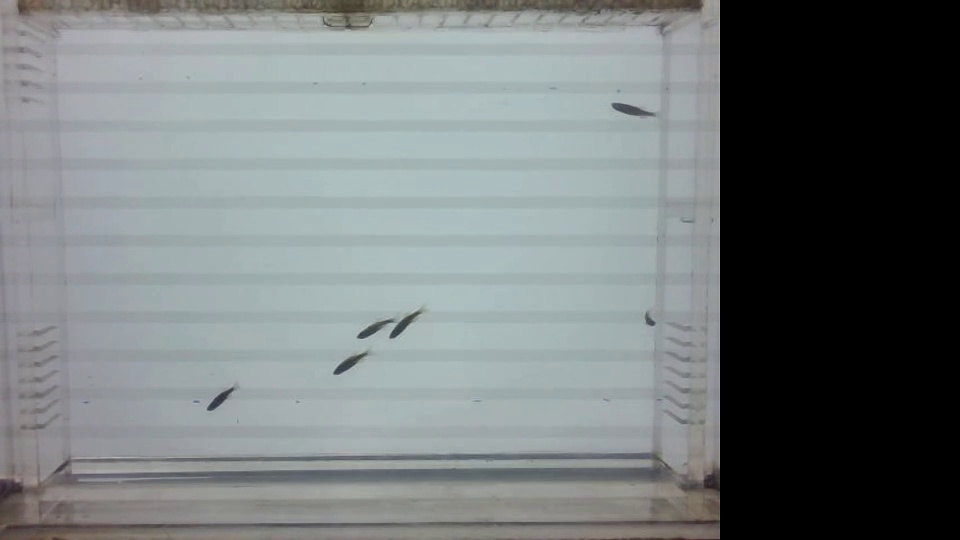fish: (596, 90, 661, 140), (193, 372, 252, 416), (384, 300, 428, 344), (322, 345, 377, 378), (352, 310, 394, 341), (624, 300, 658, 332)
